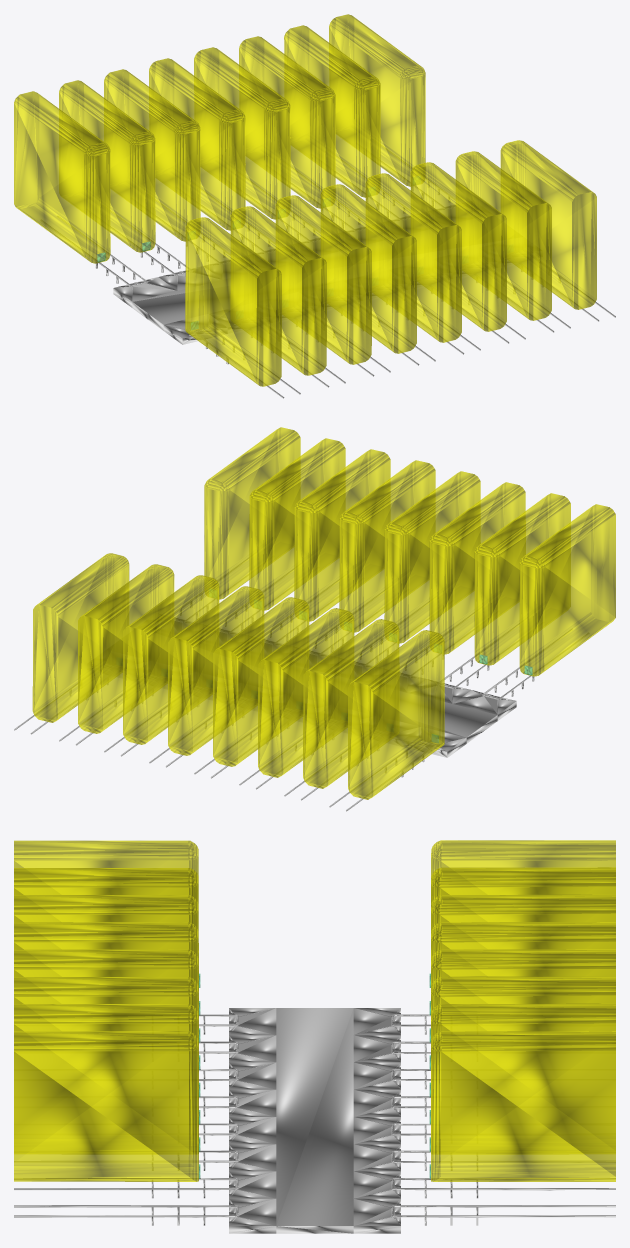
File: greenhouse_mini.dae
3 renders of one model, top to bottom at view 1: azimuth 30°, elevation 25°; view 2: azimuth 150°, elevation 25°; view 3: azimuth 270°, elevation 25°, orthographic. The views are drawn at different scales.
Visible parts, largest first — view 1: New object; view 2: New object; view 3: New object.
Boxes of the visible parts, <box> form: New object: <box>14,14,615,398</box>; New object: <box>14,427,615,811</box>; New object: <box>14,840,615,1233</box>.
Bounding box in the file's own units: 12.42 × 14 × 4.4.
